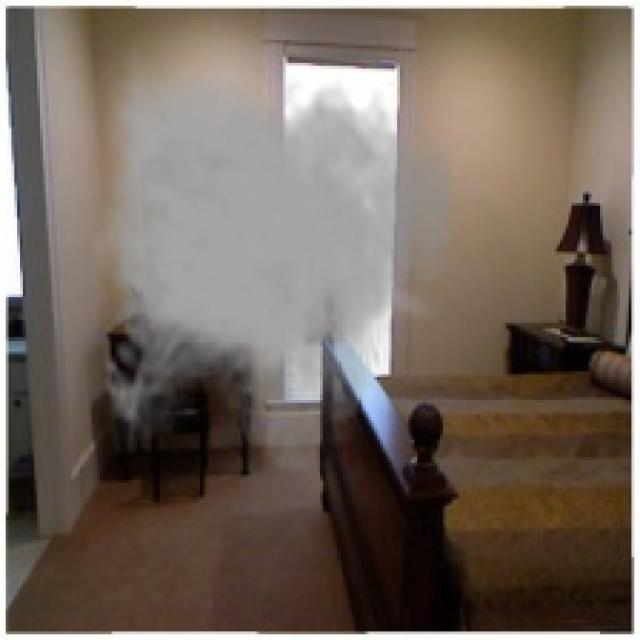smoke: (91, 49, 460, 474)
